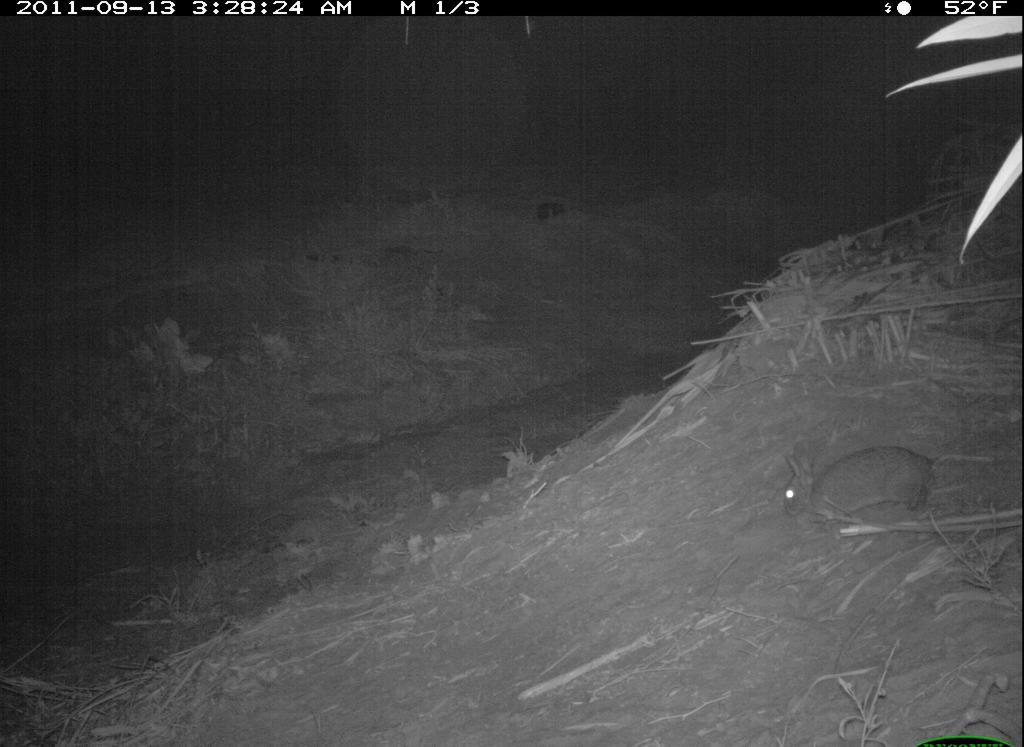rabbit: (771, 429, 948, 536)
